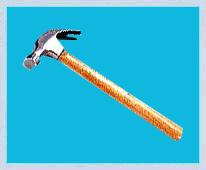hammer: (21, 27, 183, 141)
